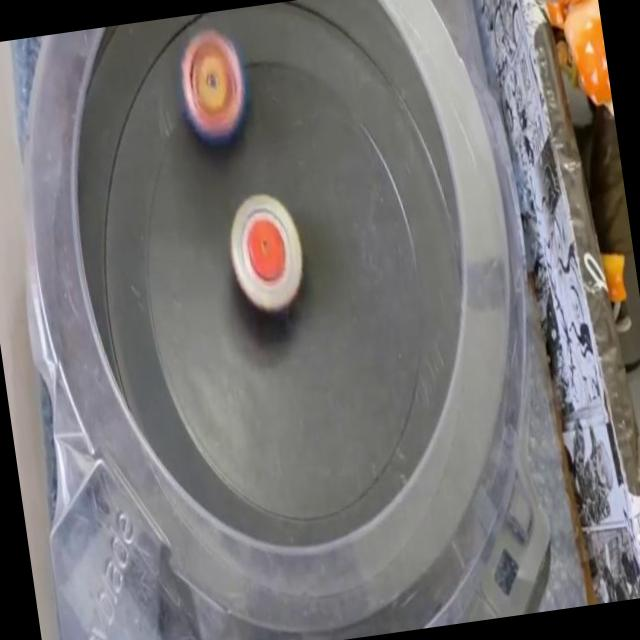Beyblade: (222, 188, 310, 319), (170, 20, 256, 153)
